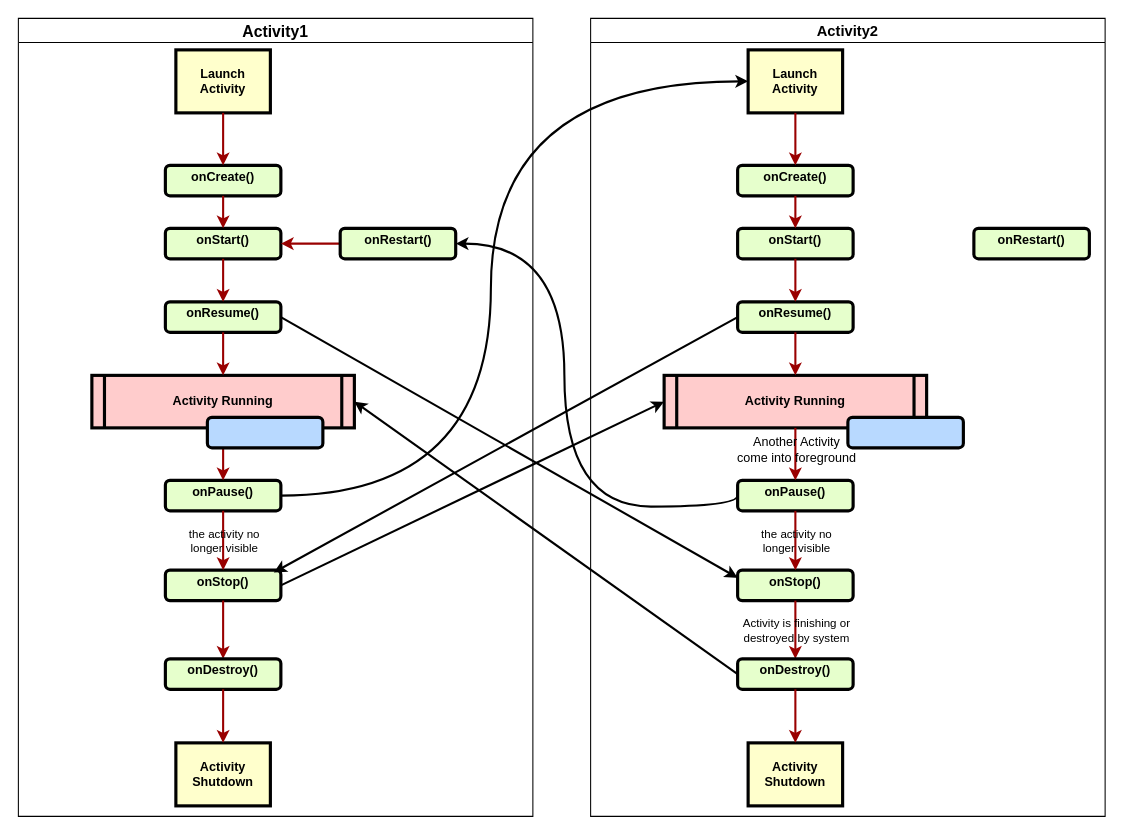
Some shapes in this 1124 by 835 pixel diagram are drawn without their labels. Each missing label, with the centre of its shape:
"Click Back Button" belongs at point 905,432.
"startActivity()" belongs at point 264,432.
